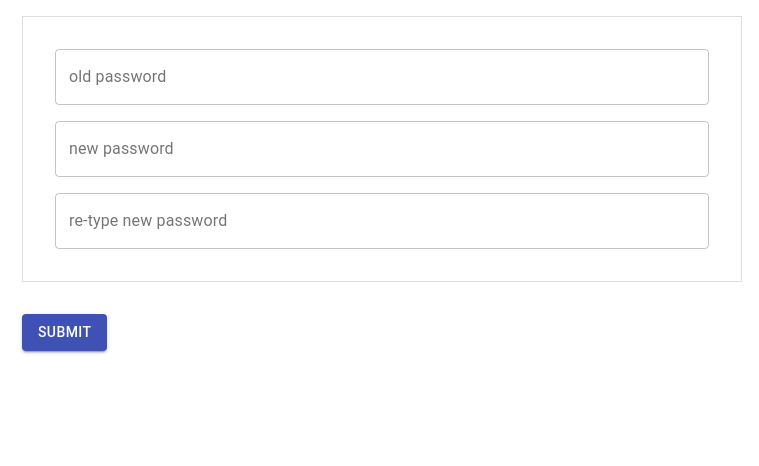
it: Form › shows error message when new password did not match passwords rules
Type "12345" into the password field labelled "new password" at (382, 149), box [55,121,709,177]
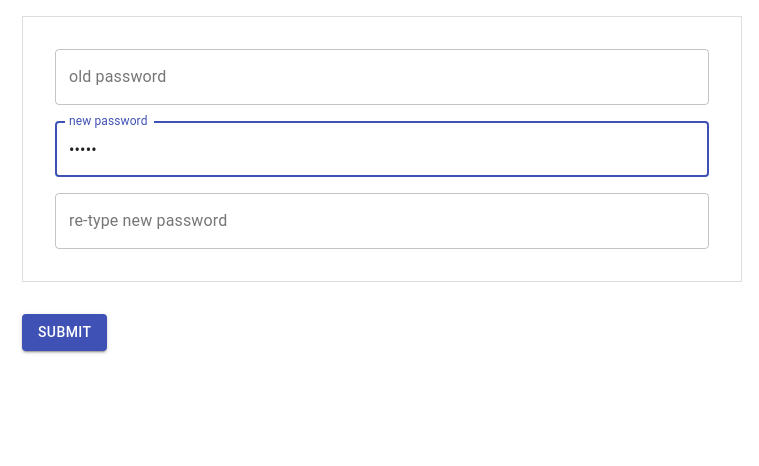
Click the button with aria-label "submit new password" at (65, 332), box [22,314,107,350]
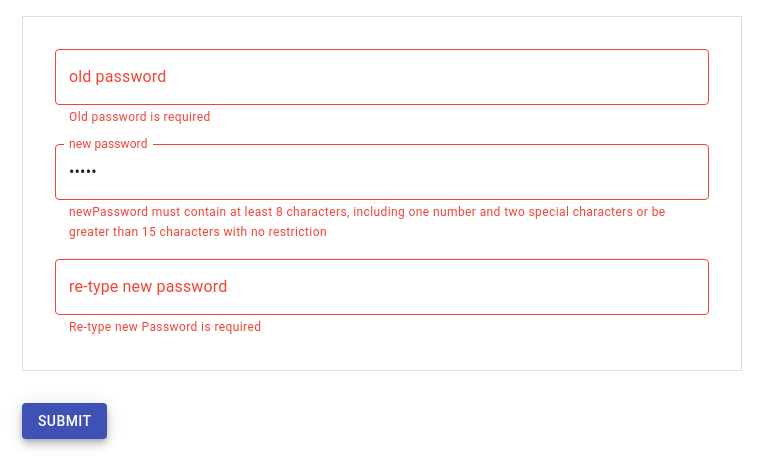
Expected: the text "must contain at least 8 characters, including one number and two special characters or be greater than 15 characters wit" is shown, [69,205,666,239]
